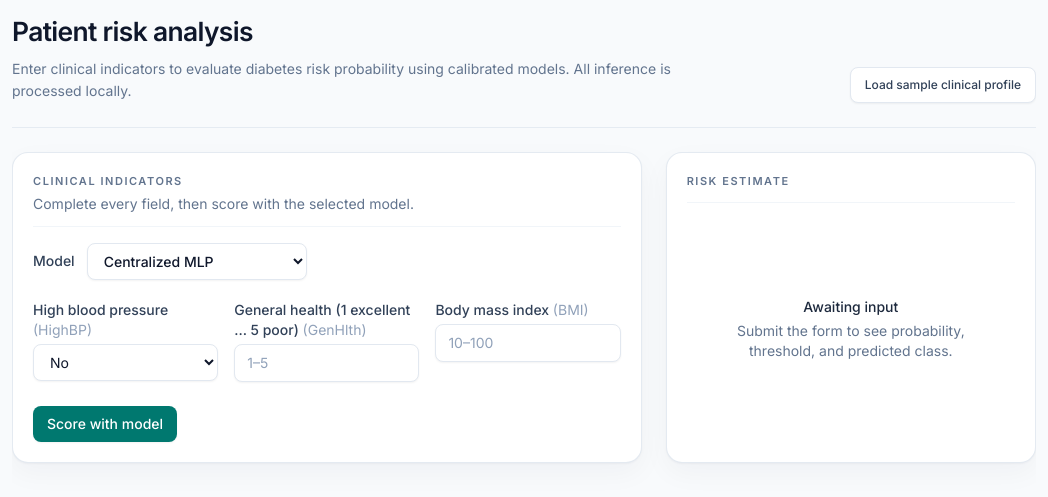
Demo form › blocks submission on invalid input and shows field errors
Type "250" into the field labelled "Body mass index (BMI)" at (528, 343), box [435,324,621,362]
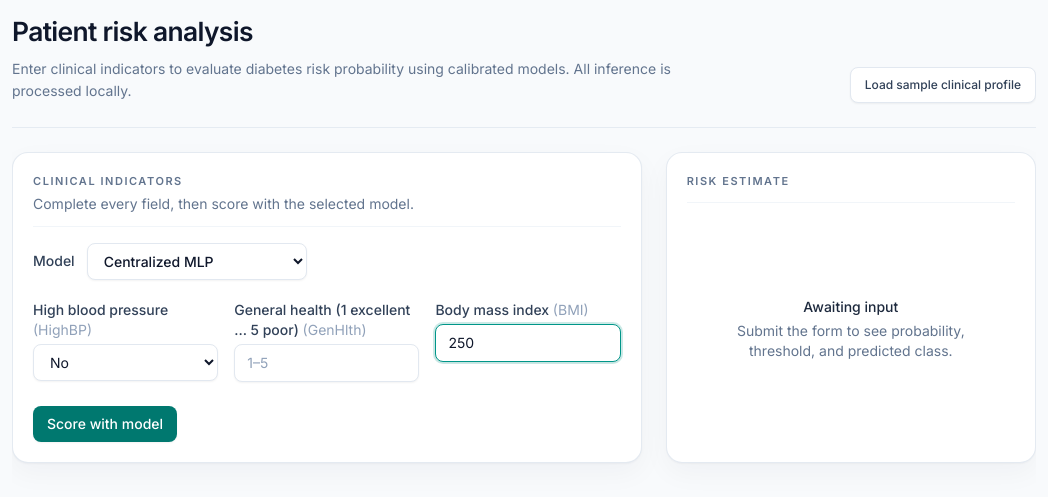
Click the button "Score with model" at (105, 424), box [33,406,177,442]
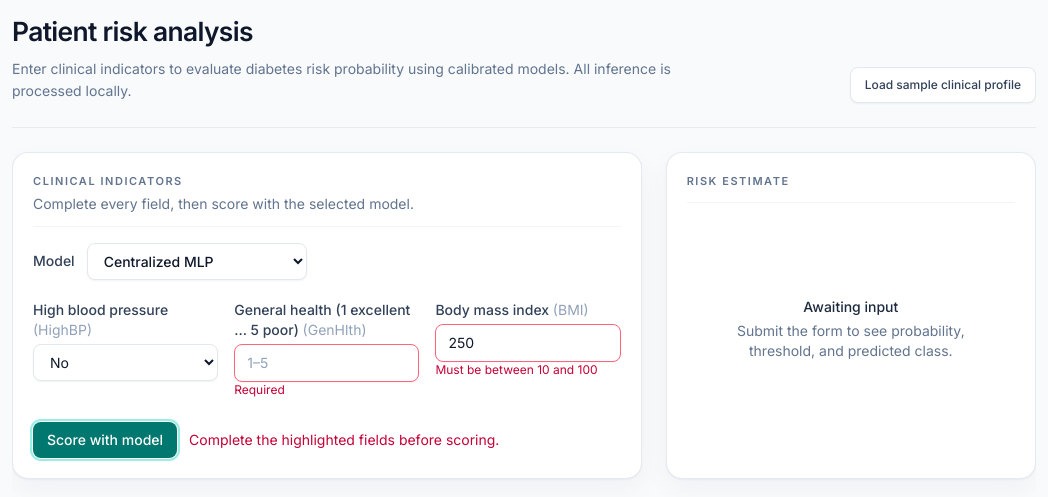
Expected: the text "Must be between 10 and 100" is shown, [435,362,621,378]
Expected: the text "Required" is shown, [234,382,285,397]
